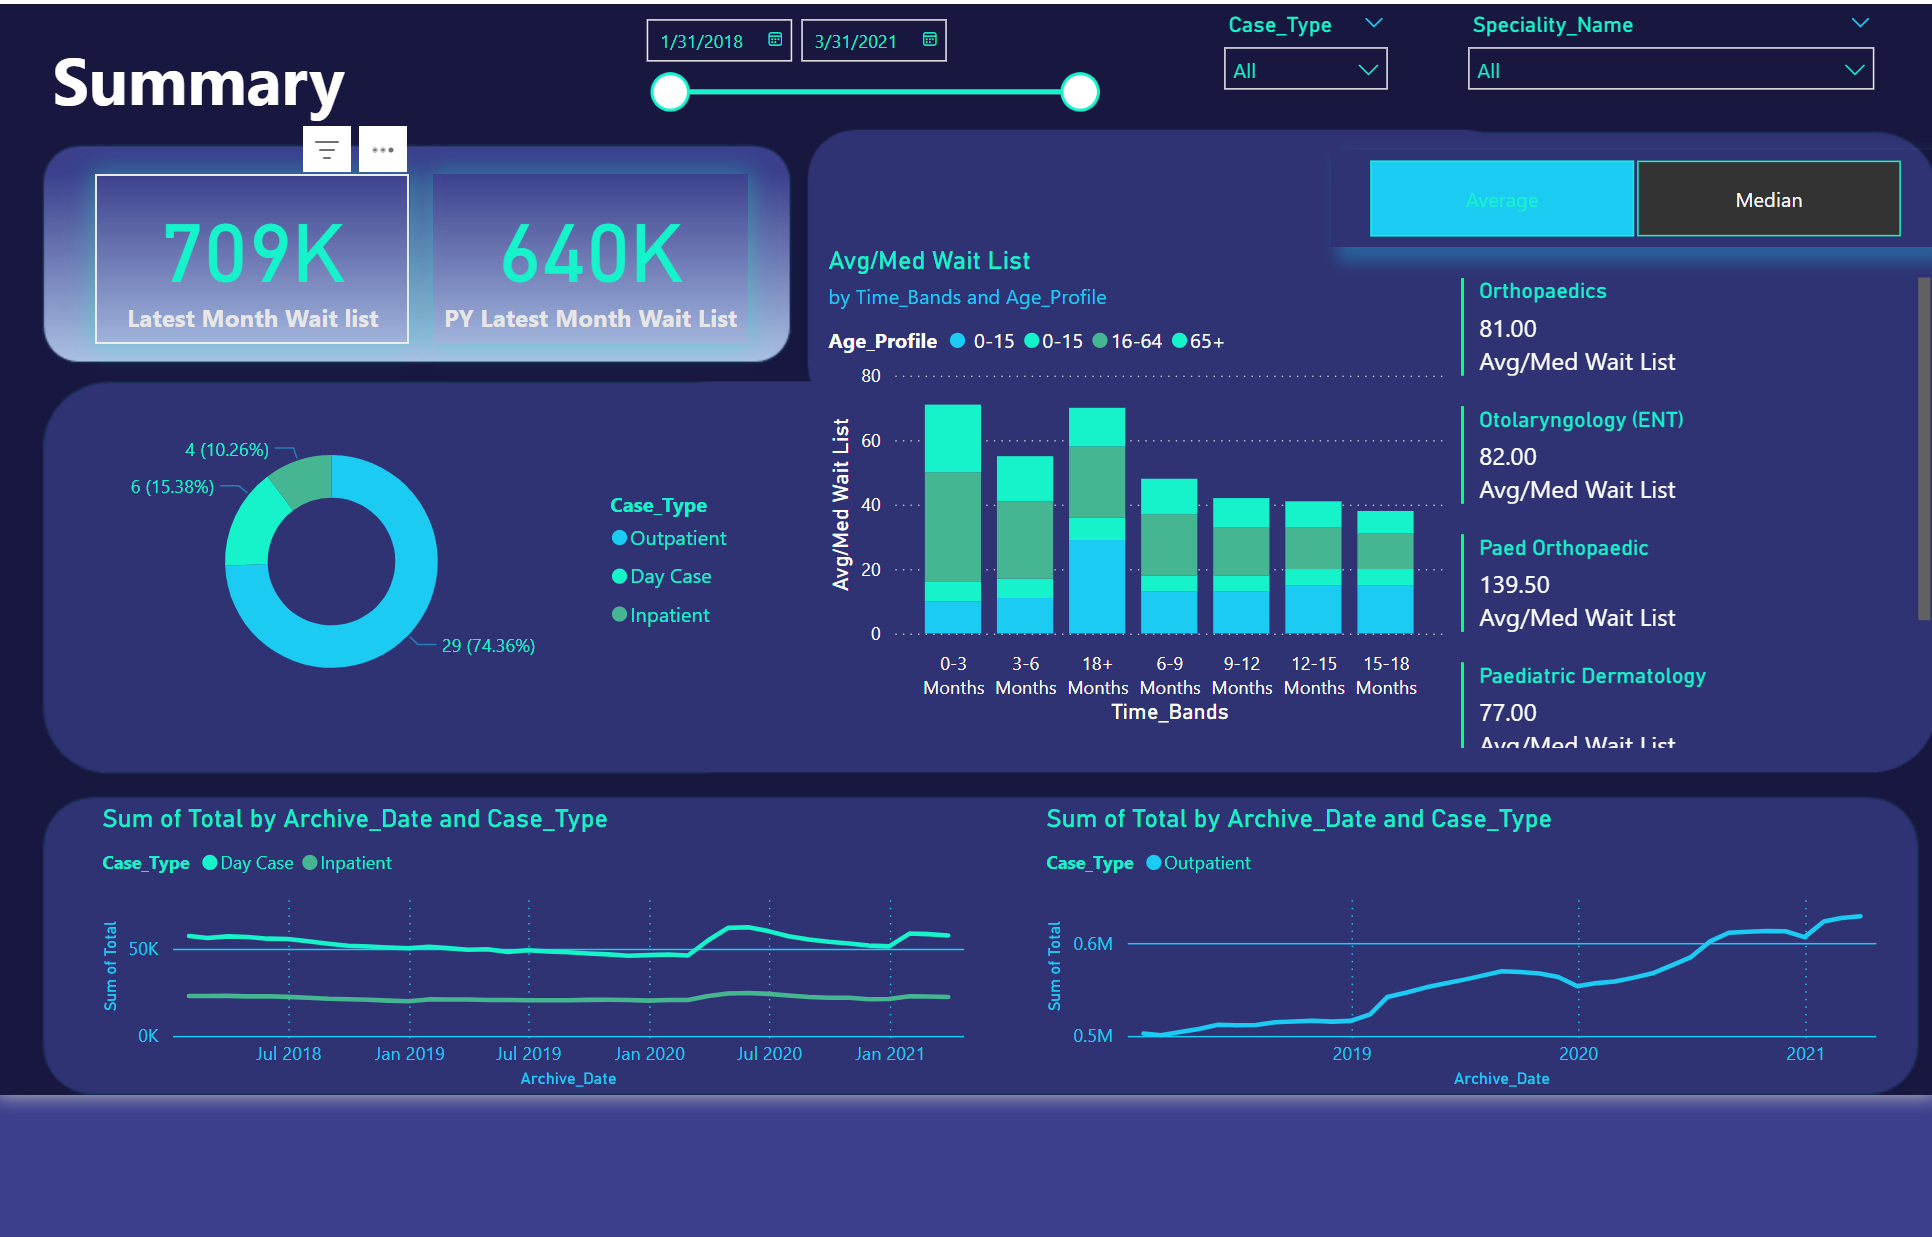

The page's visual inventory and layout, read from the dashboard file:
{"tool":"powerbi","page":{"name":"Summary","canvas":[1280,720],"ordinal":0},"visuals":[{"type":"card","fields":{"Values":["All_data.Latest Month Wait list"]},"box":[64,112,208,112],"z":0},{"type":"card","fields":{"Values":["All_data.PY Latest Month Wait List"]},"box":[288,112,208,112],"z":1000},{"type":"slicer","fields":{"Values":["Calculation Method.Calc Method"]},"box":[880,96,400,64],"z":2000},{"type":"donutChart","fields":{"Category":["All_data.Case_Type"],"Y":["All_data.Avg/Med Wait List"]},"box":[32,272,464,192],"z":3000},{"type":"columnChart","fields":{"Category":["All_data.Time_Bands"],"Y":["All_data.Avg/Med Wait List"],"Series":["All_data.Age_Profile"]},"box":[544,160,416,320],"z":4000},{"type":"multiRowCard","fields":{"Values":["All_data.Speciality_Name","All_data.Avg/Med Wait List"]},"box":[960,176,320,320],"z":5000},{"type":"lineChart","fields":{"Category":["All_data.Archive_Date"],"Y":["Sum(All_data.Total)"],"Series":["All_data.Case_Type"]},"box":[64,528,592,192],"z":6000},{"type":"lineChart","fields":{"Category":["All_data.Archive_Date"],"Y":["Sum(All_data.Total)"],"Series":["All_data.Case_Type"]},"box":[688,528,560,192],"z":7000},{"type":"slicer","fields":{"Values":["All_data.Archive_Date"]},"box":[416,0,320,96],"z":8000},{"type":"slicer","fields":{"Values":["All_data.Case_Type"]},"box":[800,0,128,96],"z":9000},{"type":"slicer","fields":{"Values":["All_data.Speciality_Name"]},"box":[960,0,288,96],"z":10000},{"type":"textbox","box":[32,16,256,80],"z":11000}]}

Visuals, with their boxes on the page's 1280x720 design canvas (x1, y1, x2, y2). These are canvas units, not pixel positions in the 1932x1237 screenshot, which may show the page scaled, cropped or inside an application window:
card - All_data.Latest Month Wait list: <bbox>64, 112, 272, 224</bbox>
card - All_data.PY Latest Month Wait List: <bbox>288, 112, 496, 224</bbox>
slicer - Calculation Method.Calc Method: <bbox>880, 96, 1280, 160</bbox>
donutChart - All_data.Case_Type x All_data.Avg/Med Wait List: <bbox>32, 272, 496, 464</bbox>
columnChart - All_data.Time_Bands x All_data.Avg/Med Wait List: <bbox>544, 160, 960, 480</bbox>
multiRowCard - All_data.Speciality_Name x All_data.Avg/Med Wait List: <bbox>960, 176, 1280, 496</bbox>
lineChart - All_data.Archive_Date x Sum(All_data.Total): <bbox>64, 528, 656, 720</bbox>
lineChart - All_data.Archive_Date x Sum(All_data.Total): <bbox>688, 528, 1248, 720</bbox>
slicer - All_data.Archive_Date: <bbox>416, 0, 736, 96</bbox>
slicer - All_data.Case_Type: <bbox>800, 0, 928, 96</bbox>
slicer - All_data.Speciality_Name: <bbox>960, 0, 1248, 96</bbox>
textbox: <bbox>32, 16, 288, 96</bbox>
